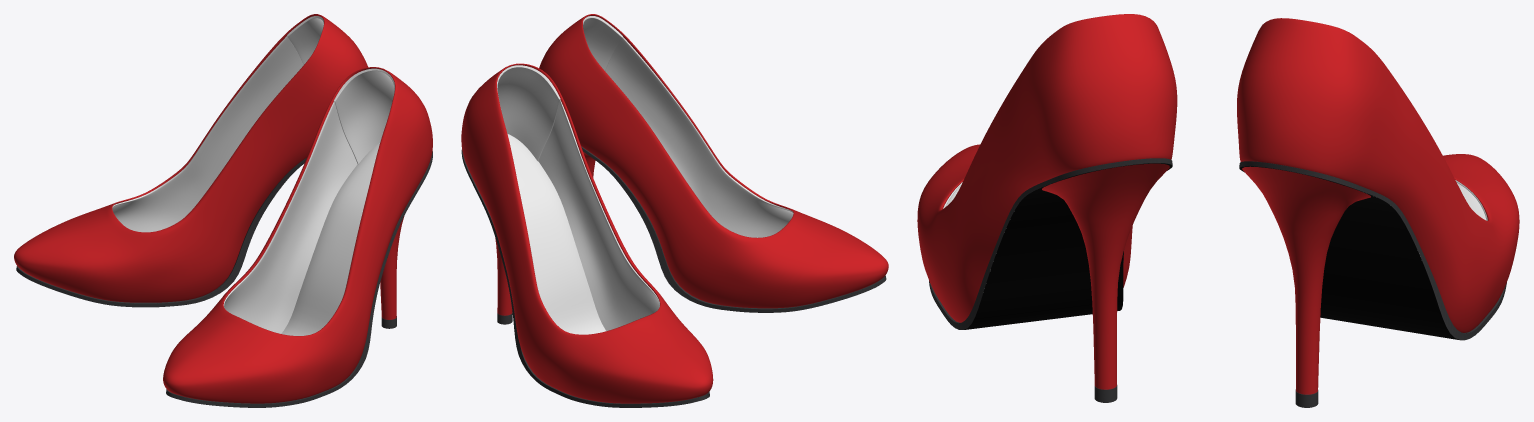
File: shoe1.glb
The picture shows the model from 3 angles, left to right: view 1: azimuth 30°, elevation 25°; view 2: azimuth 150°, elevation 25°; view 3: azimuth 270°, elevation 25°; orthographic projection. The views are drawn at different scales.
Parts seen in each view (by area): view 1: lambert1.017, lambert1, lambert1.013, lambert1.005, lambert1.002, lambert1.021, lambert1.007, lambert1.001, lambert1.015, lambert1.022, lambert1.003, lambert1.009 (+1 smaller); view 2: lambert1.017, lambert1, lambert1.013, lambert1.018, lambert1.015, lambert1.008, lambert1.020, lambert1.002, lambert1.014, lambert1.009, lambert1.016, lambert1.003; view 3: lambert1.017, lambert1.019, lambert1.006, lambert1.001, lambert1.014, lambert1.020, lambert1.007.
Boxes of the visible parts, x1,y1,x2,y2 form: lambert1.017: [14, 14, 432, 403]; lambert1: [223, 102, 357, 333]; lambert1.013: [112, 36, 303, 232]; lambert1.005: [281, 143, 379, 335]; lambert1.002: [334, 68, 394, 163]; lambert1.021: [16, 159, 306, 307]; lambert1.007: [171, 151, 432, 407]; lambert1.001: [380, 216, 404, 319]; lambert1.015: [287, 16, 323, 64]; lambert1.022: [17, 157, 306, 303]; lambert1.003: [224, 68, 388, 300]; lambert1.009: [166, 151, 432, 403]; lambert1.017: [461, 14, 888, 403]; lambert1: [605, 37, 793, 237]; lambert1.013: [526, 99, 659, 330]; lambert1.018: [507, 134, 606, 334]; lambert1.015: [497, 65, 560, 160]; lambert1.008: [581, 147, 886, 312]; lambert1.020: [461, 150, 702, 407]; lambert1.002: [583, 16, 622, 70]; lambert1.014: [495, 238, 512, 315]; lambert1.009: [581, 146, 885, 309]; lambert1.016: [503, 64, 659, 300]; lambert1.003: [585, 15, 791, 210]; lambert1.017: [917, 14, 1519, 332]; lambert1.019: [1239, 166, 1466, 339]; lambert1.006: [964, 163, 1172, 329]; lambert1.001: [1042, 163, 1169, 389]; lambert1.014: [1242, 166, 1370, 394]; lambert1.020: [1277, 164, 1506, 340]; lambert1.007: [929, 160, 1130, 329].
Size of the model in its own units: 0.5537 by 0.4383 by 0.6304.
2 materials, 1 textured.
